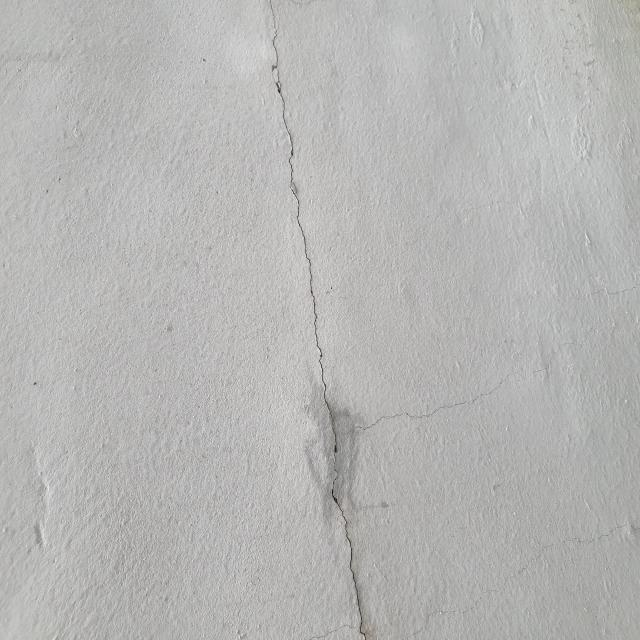SurfaceCrack: (232, 1, 405, 640)
